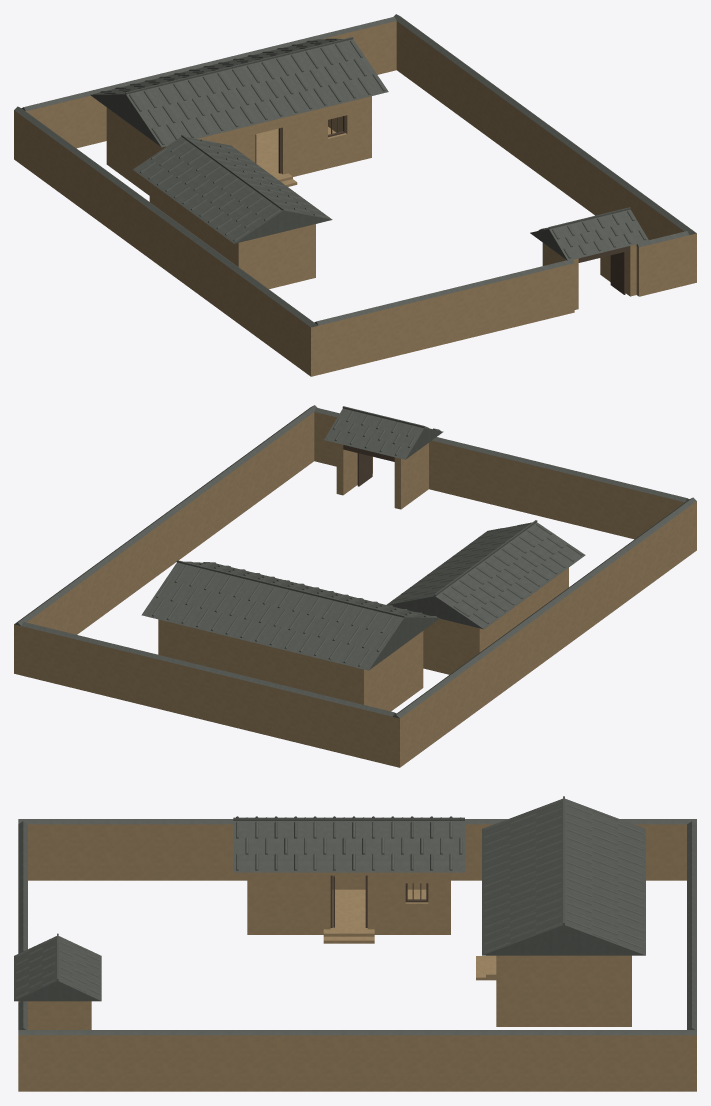
File: court-A-LOD1.glb
3 renders of one model, top to bottom at view 1: azimuth 30°, elevation 25°; view 2: azimuth 150°, elevation 25°; view 3: azimuth 270°, elevation 25°, orthographic. The views are drawn at different scales.
Parts seen in each view (by area): view 1: court-A-static_earth, court-A-static_tile, court-A-static_timber; view 2: court-A-static_earth, court-A-static_tile, court-A-static_timber; view 3: court-A-static_earth, court-A-static_tile, court-A-static_timber.
Part boxes in pixels (<box>): court-A-static_earth: <box>14,21,696,376</box>; court-A-static_tile: <box>14,14,696,327</box>; court-A-static_timber: <box>255,115,630,294</box>; court-A-static_earth: <box>14,412,696,767</box>; court-A-static_tile: <box>14,405,696,718</box>; court-A-static_timber: <box>343,445,394,486</box>; court-A-static_earth: <box>18,824,696,1091</box>; court-A-static_tile: <box>14,796,696,1035</box>; court-A-static_timber: <box>330,875,428,927</box>.
Bounding box in the file's own units: 18 × 4.29 × 24.15.
Materials: 3 (3 with a texture image).
